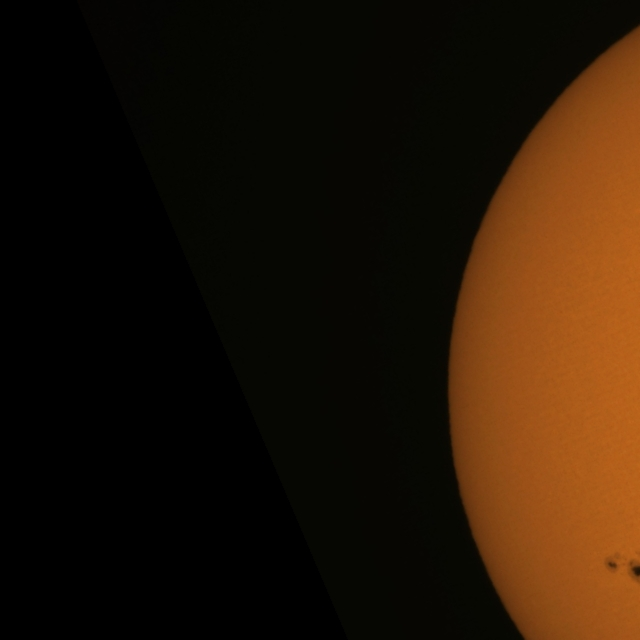sunspot: (604, 549, 640, 583)
